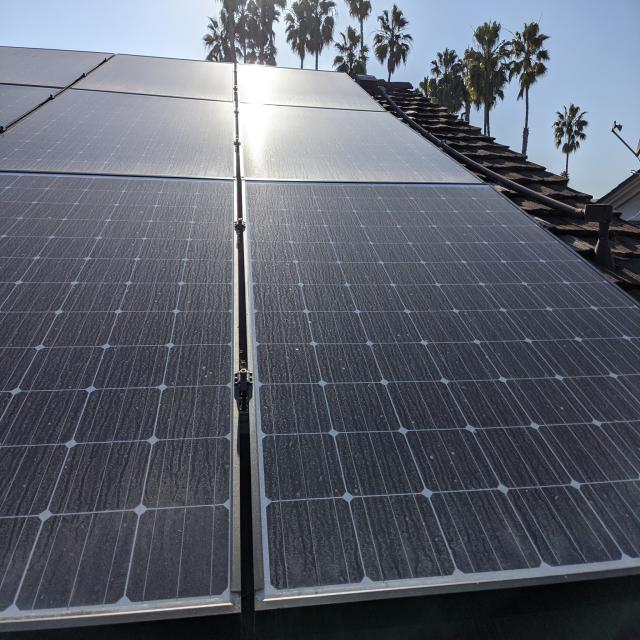dust-solar-panel: (0, 171, 640, 627)
